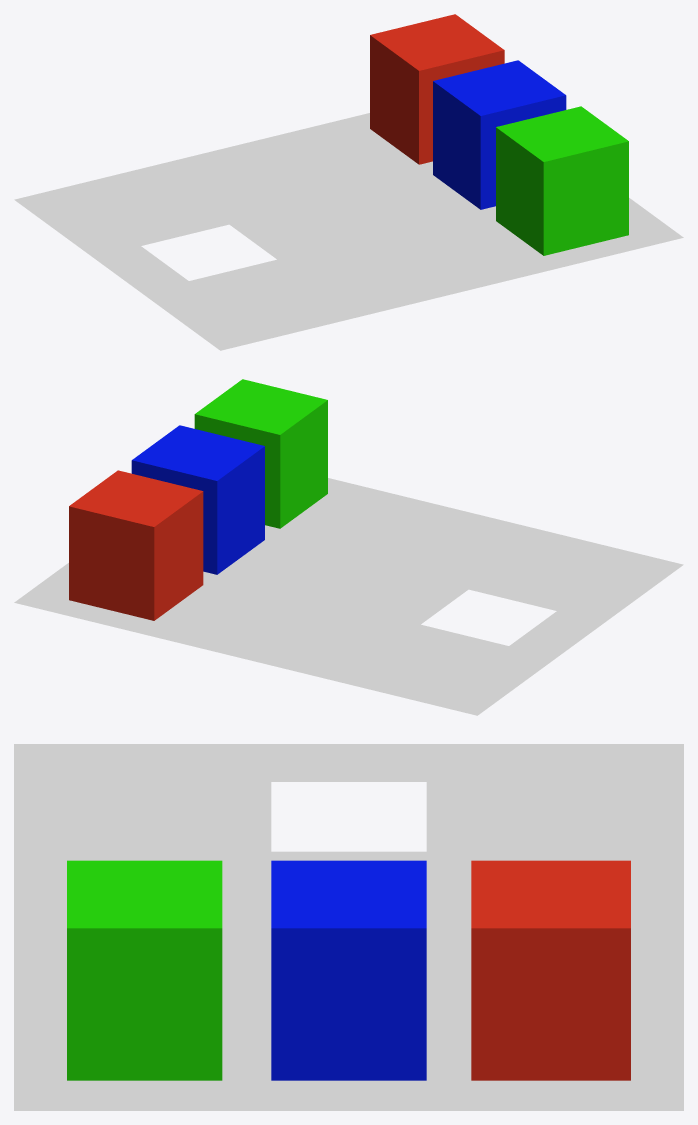
Rendered from pol.gltf.
3 views of the same model, one above another, from view 1: azimuth 30°, elevation 25°; view 2: azimuth 150°, elevation 25°; view 3: azimuth 270°, elevation 25° (orthographic). The views are drawn at different scales.
Visible parts, largest first — view 1: Плоскость; view 2: Плоскость; view 3: Плоскость.
Boxes of the visible parts, bbox=[...] form: Плоскость: bbox=[14, 14, 683, 350]; Плоскость: bbox=[14, 379, 683, 715]; Плоскость: bbox=[14, 744, 683, 1110].
Bounding box in the file's own units: 2.59 × 0.5015 × 2.
